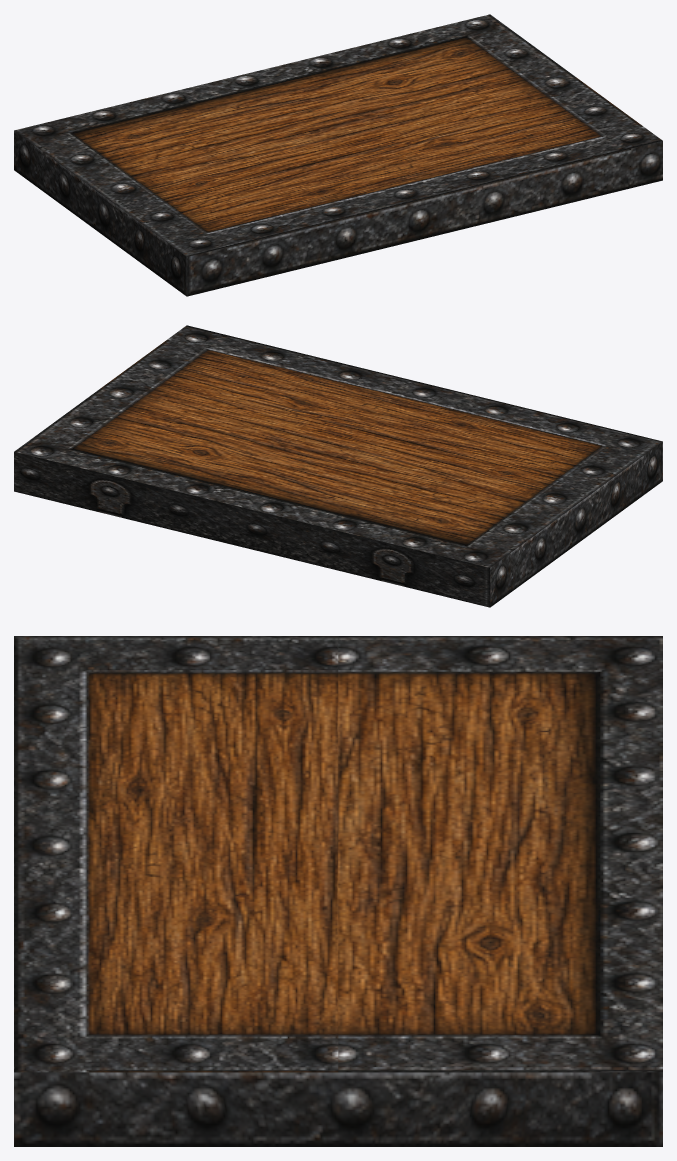
File: mm9_deco_chest_1lid.glb
The picture shows the model from 3 angles, top to bottom: view 1: azimuth 30°, elevation 25°; view 2: azimuth 150°, elevation 25°; view 3: azimuth 270°, elevation 25°; orthographic projection. The views are drawn at different scales.
Visible parts, largest first — view 1: Chest; view 2: Chest; view 3: Chest.
Part boxes in pixels (<box>): Chest: <box>14,14,662,296</box>; Chest: <box>14,325,662,607</box>; Chest: <box>14,636,662,1146</box>.
Bounding box in the file's own units: 1 × 0.0798 × 0.6296.
1 material, 1 textured.
